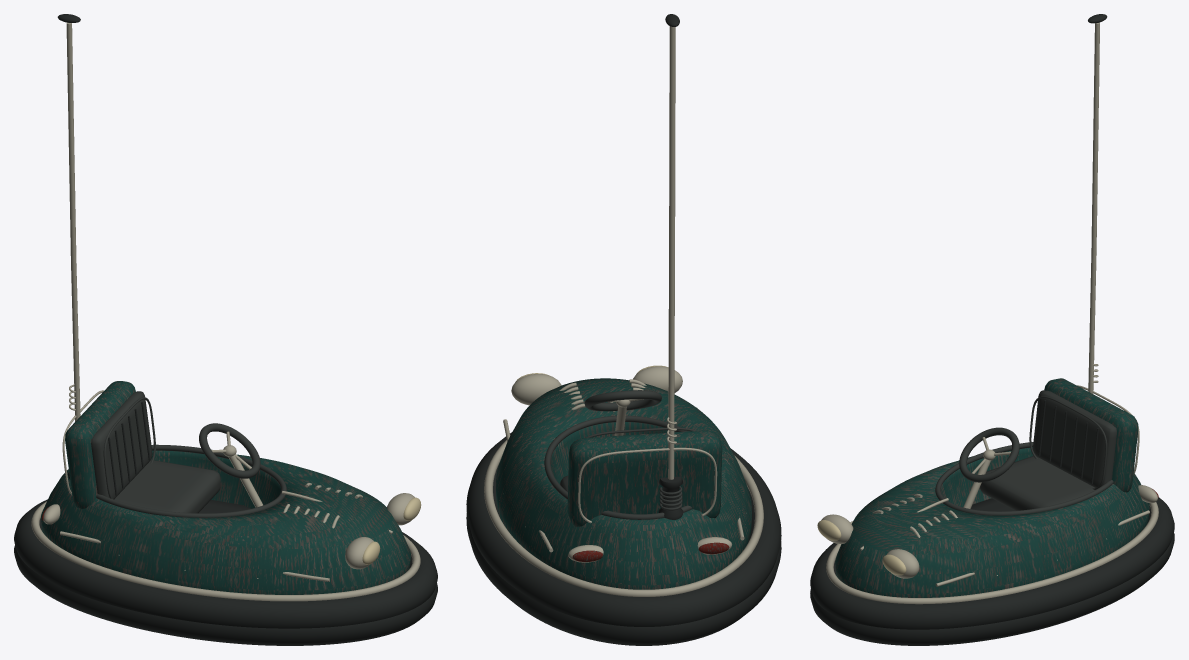
Rendered from SM_BumperCar_d830442ef7.fbx.
3 renders of one model, left to right at view 1: azimuth 30°, elevation 25°; view 2: azimuth 150°, elevation 25°; view 3: azimuth 270°, elevation 25°, orthographic. The views are drawn at different scales.
Visible parts, largest first — view 1: SM_BumperCar_d830442ef7; view 2: SM_BumperCar_d830442ef7; view 3: SM_BumperCar_d830442ef7.
Boxes of the visible parts, x1,y1,x2,y2 form: SM_BumperCar_d830442ef7: (14,14,437,645); SM_BumperCar_d830442ef7: (466,14,781,645); SM_BumperCar_d830442ef7: (810,14,1174,645).
Size of what is drawn, in the model's own units: 216 by 237 by 373.
6 materials, 2 textured.
